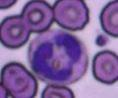N: (27, 30, 88, 84)
